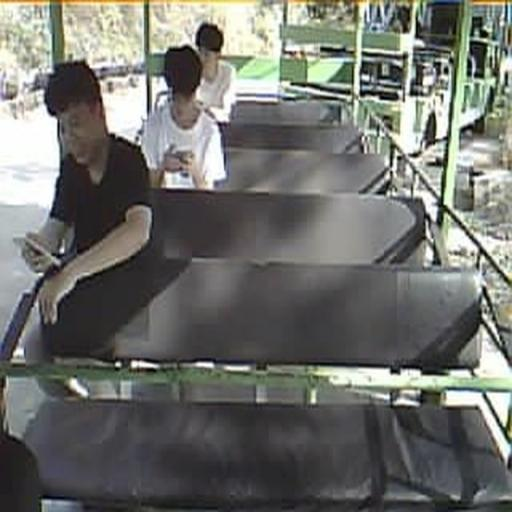persona: (21, 58, 154, 335), (138, 44, 228, 190), (194, 22, 236, 118)
